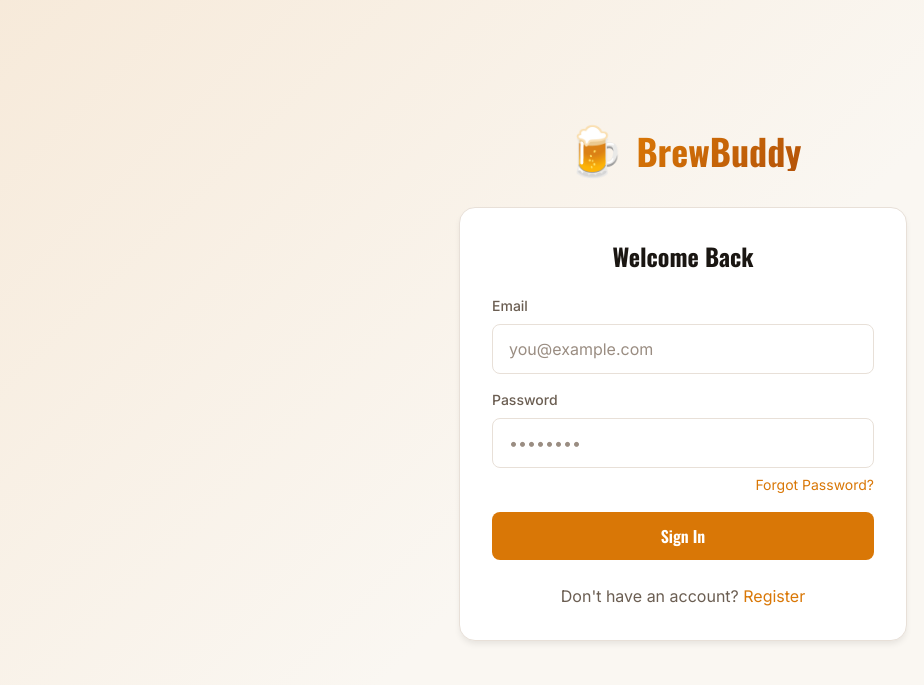
Test: Login Page › displays email format error for invalid email
This screenshot has width=924, height=685.
In the field labelled "Email": (683, 349) [492, 324, 874, 374], type "invalid-email"
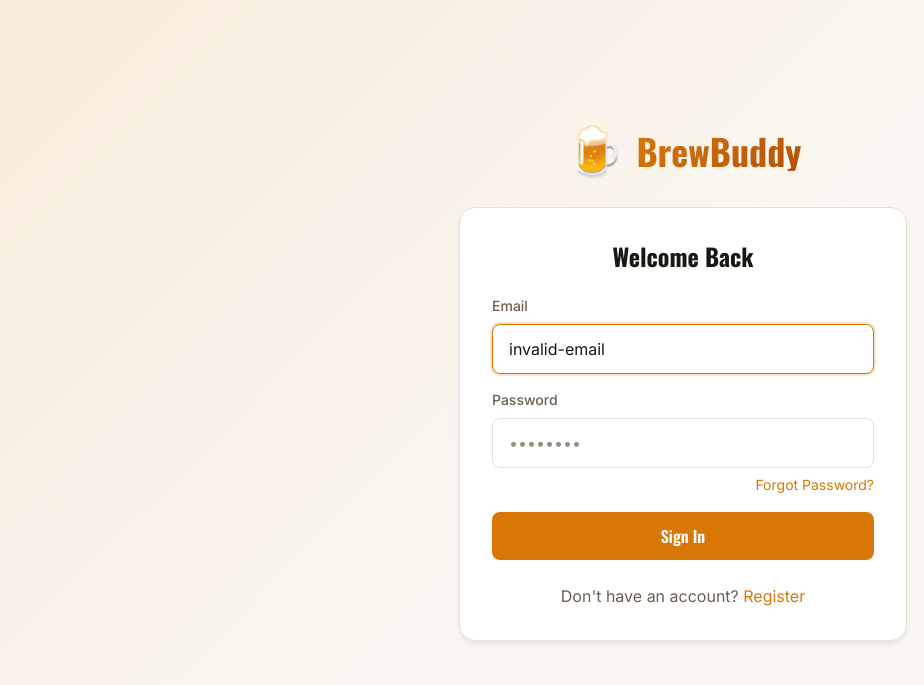
Click the button "Sign In": (683, 536) [492, 512, 874, 560]
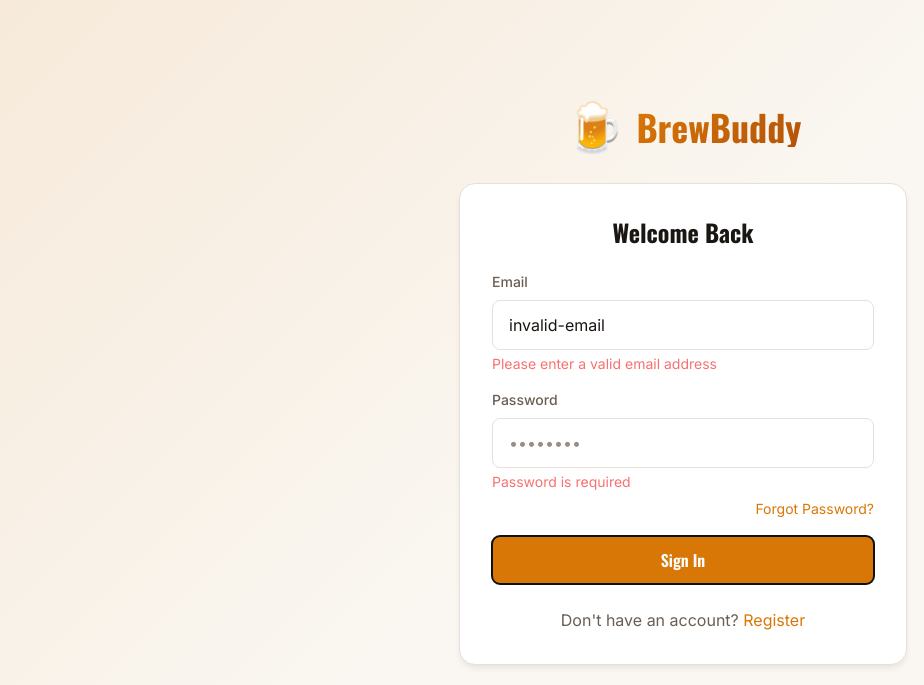
Result: the text "Please enter a valid email address" is shown at [492, 355, 717, 372]
